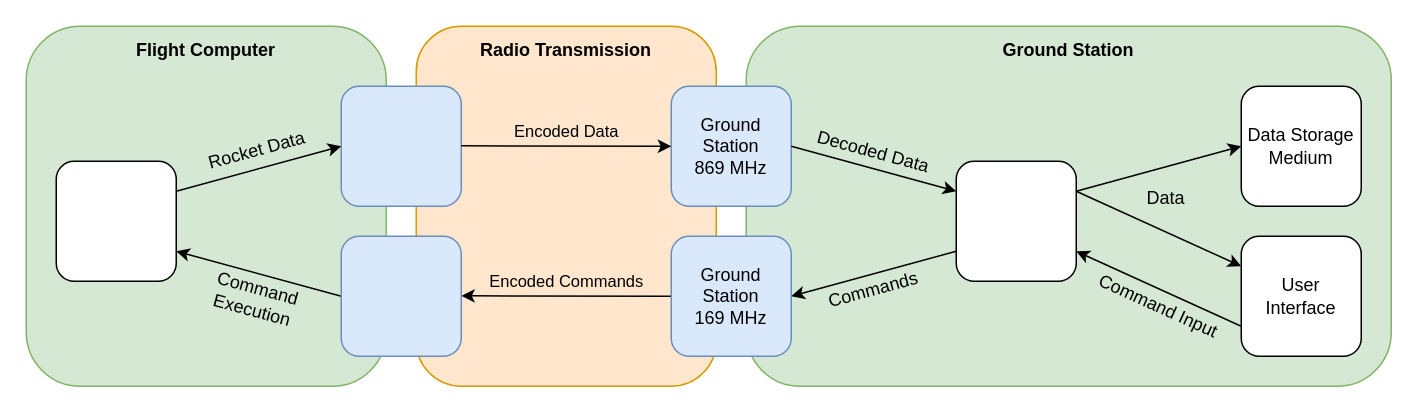
The diagram is 1418 pixels wide and 413 high, and some of its shapes have lost their labels. The shapes that lost their labels are listed below. From the top down, each one's centre as x and y in pixels, then its label:
pixel 400 145: Onboard 869 MHz
pixel 115 220: PCB Data Bus
pixel 1015 220: Ground Station Software
pixel 400 295: Onboard 169 MHz
